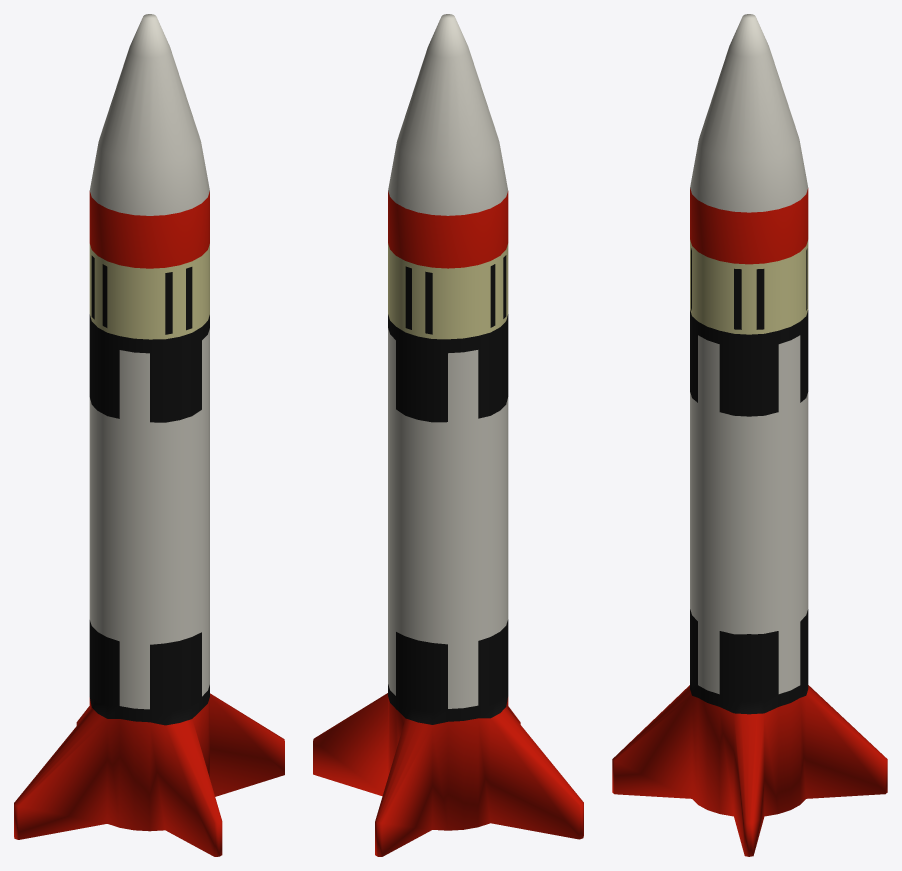
The model's file is missile.fbx.
3 renders of one model, left to right at view 1: azimuth 30°, elevation 25°; view 2: azimuth 150°, elevation 25°; view 3: azimuth 270°, elevation 25°, orthographic.
Visible parts, largest first — view 1: Cylinder; view 2: Cylinder; view 3: Cylinder.
Part boxes in pixels (x1,y1,x2,y2): Cylinder: [14, 14, 284, 856]; Cylinder: [313, 14, 583, 856]; Cylinder: [612, 14, 887, 856].
Size of the model in its own units: 5.18 by 14.48 by 4.66.
